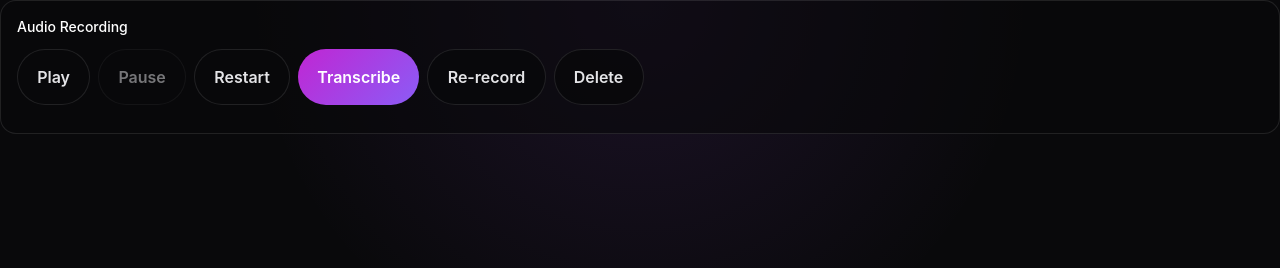
Scenario: AudioRecorder › shows error when transcription fails
Step 1. Click the button "Transcribe" → (359, 77), box [298,49,420,105]
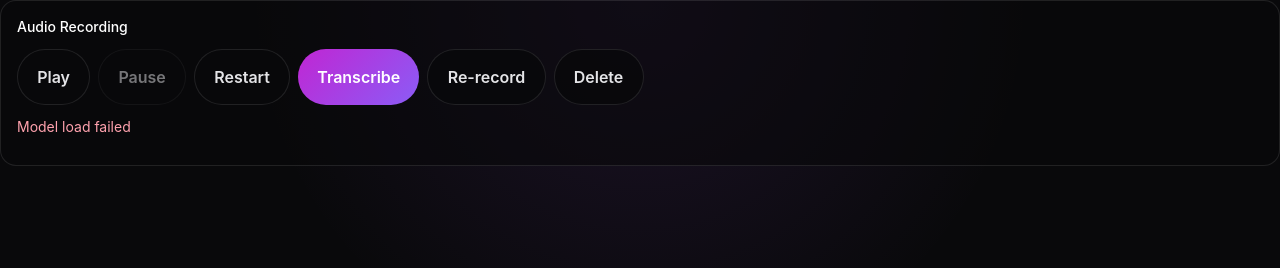
Result: the text "Model load failed" is shown at [17,118,131,135]
